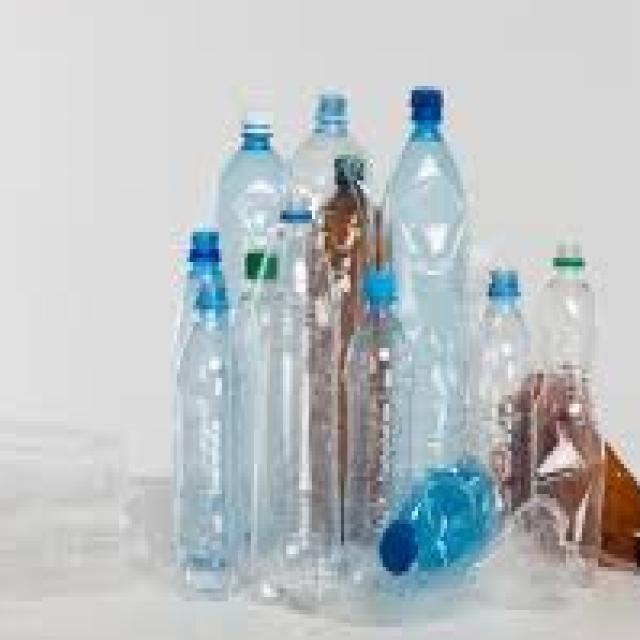organic: (134, 42, 616, 622)
